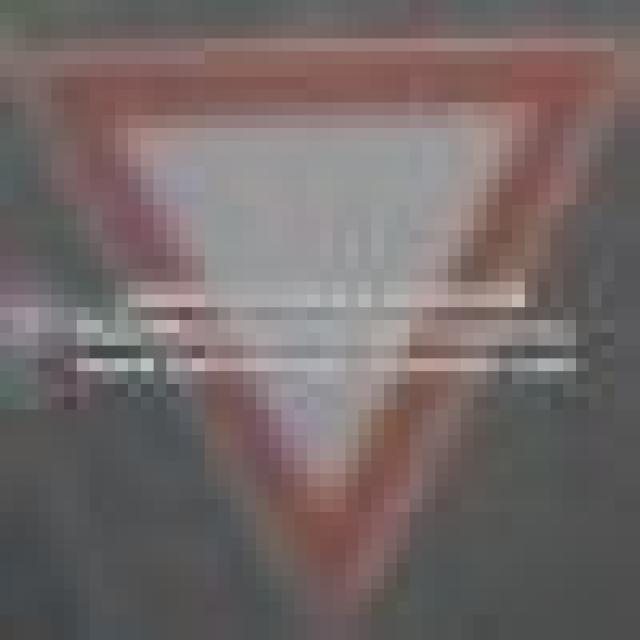gap_in_median: (26, 39, 614, 602)
